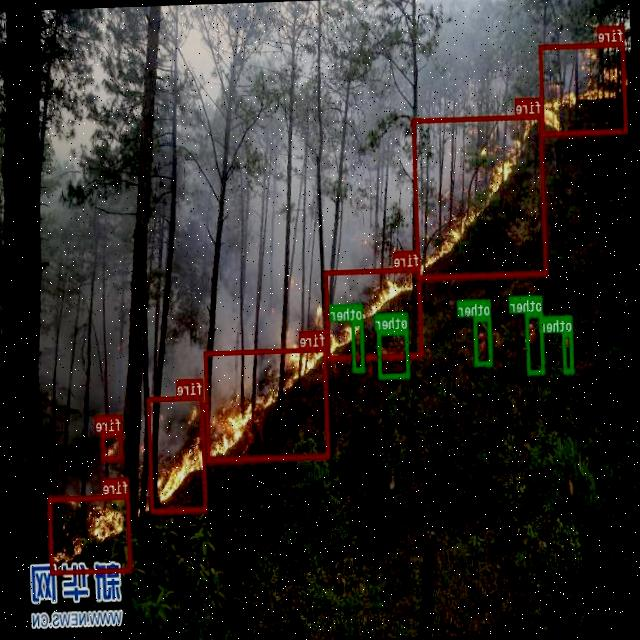fire: (412, 113, 548, 280), (204, 346, 330, 461), (326, 266, 424, 359), (540, 41, 628, 136), (147, 394, 207, 512), (48, 493, 132, 574), (101, 430, 123, 460)
